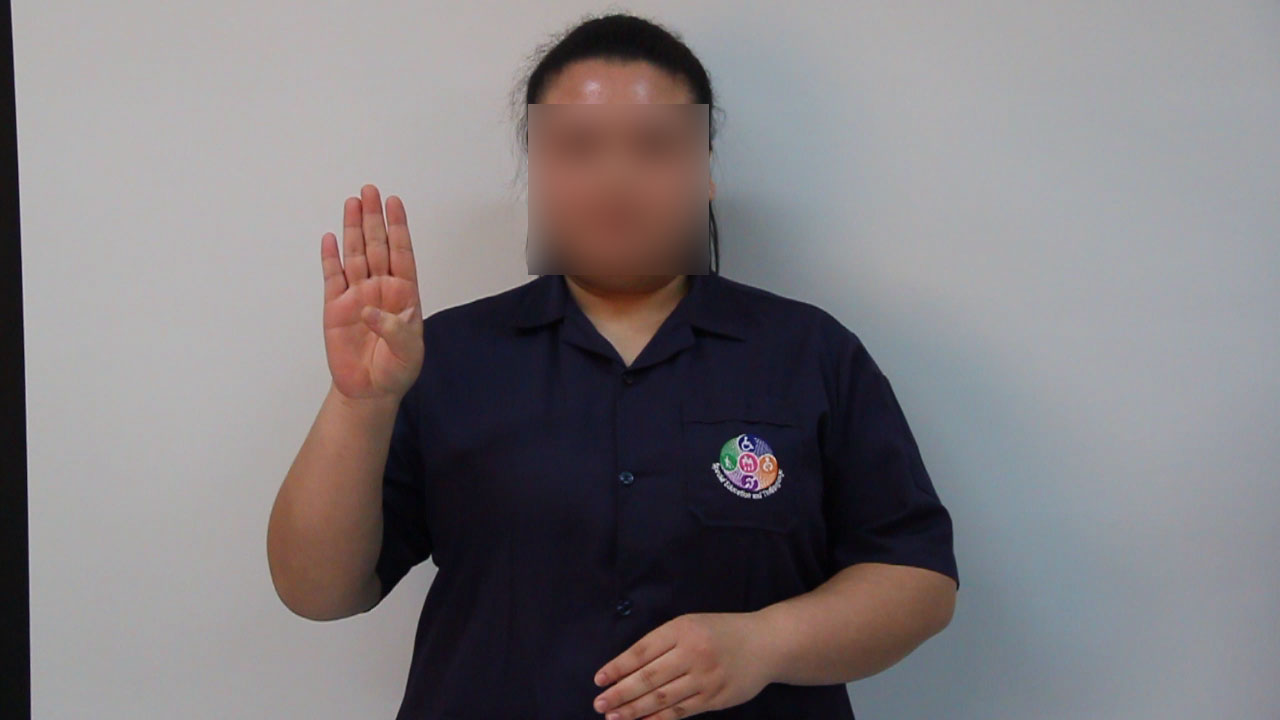bor: (301, 169, 435, 429)
